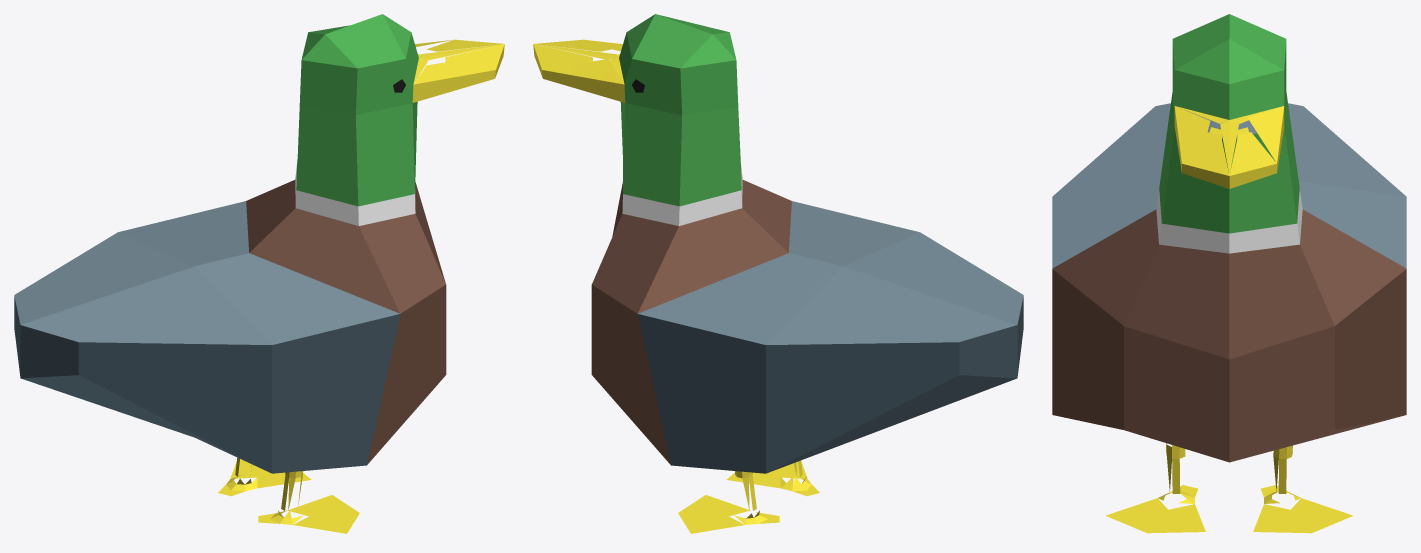
The model's file is duck.glb.
3 renders of one model, left to right at view 1: azimuth 30°, elevation 25°; view 2: azimuth 150°, elevation 25°; view 3: azimuth 270°, elevation 25°, orthographic. The views are drawn at different scales.
Visible parts, largest first — view 1: Duck_01_Cube.045; view 2: Duck_01_Cube.045; view 3: Duck_01_Cube.045.
Part boxes in pixels (bbox=[...]): Duck_01_Cube.045: bbox=[14, 14, 504, 533]; Duck_01_Cube.045: bbox=[533, 14, 1023, 533]; Duck_01_Cube.045: bbox=[1052, 14, 1406, 533].
Size of the model in its own units: 0.5 by 0.4573 by 0.2758.
